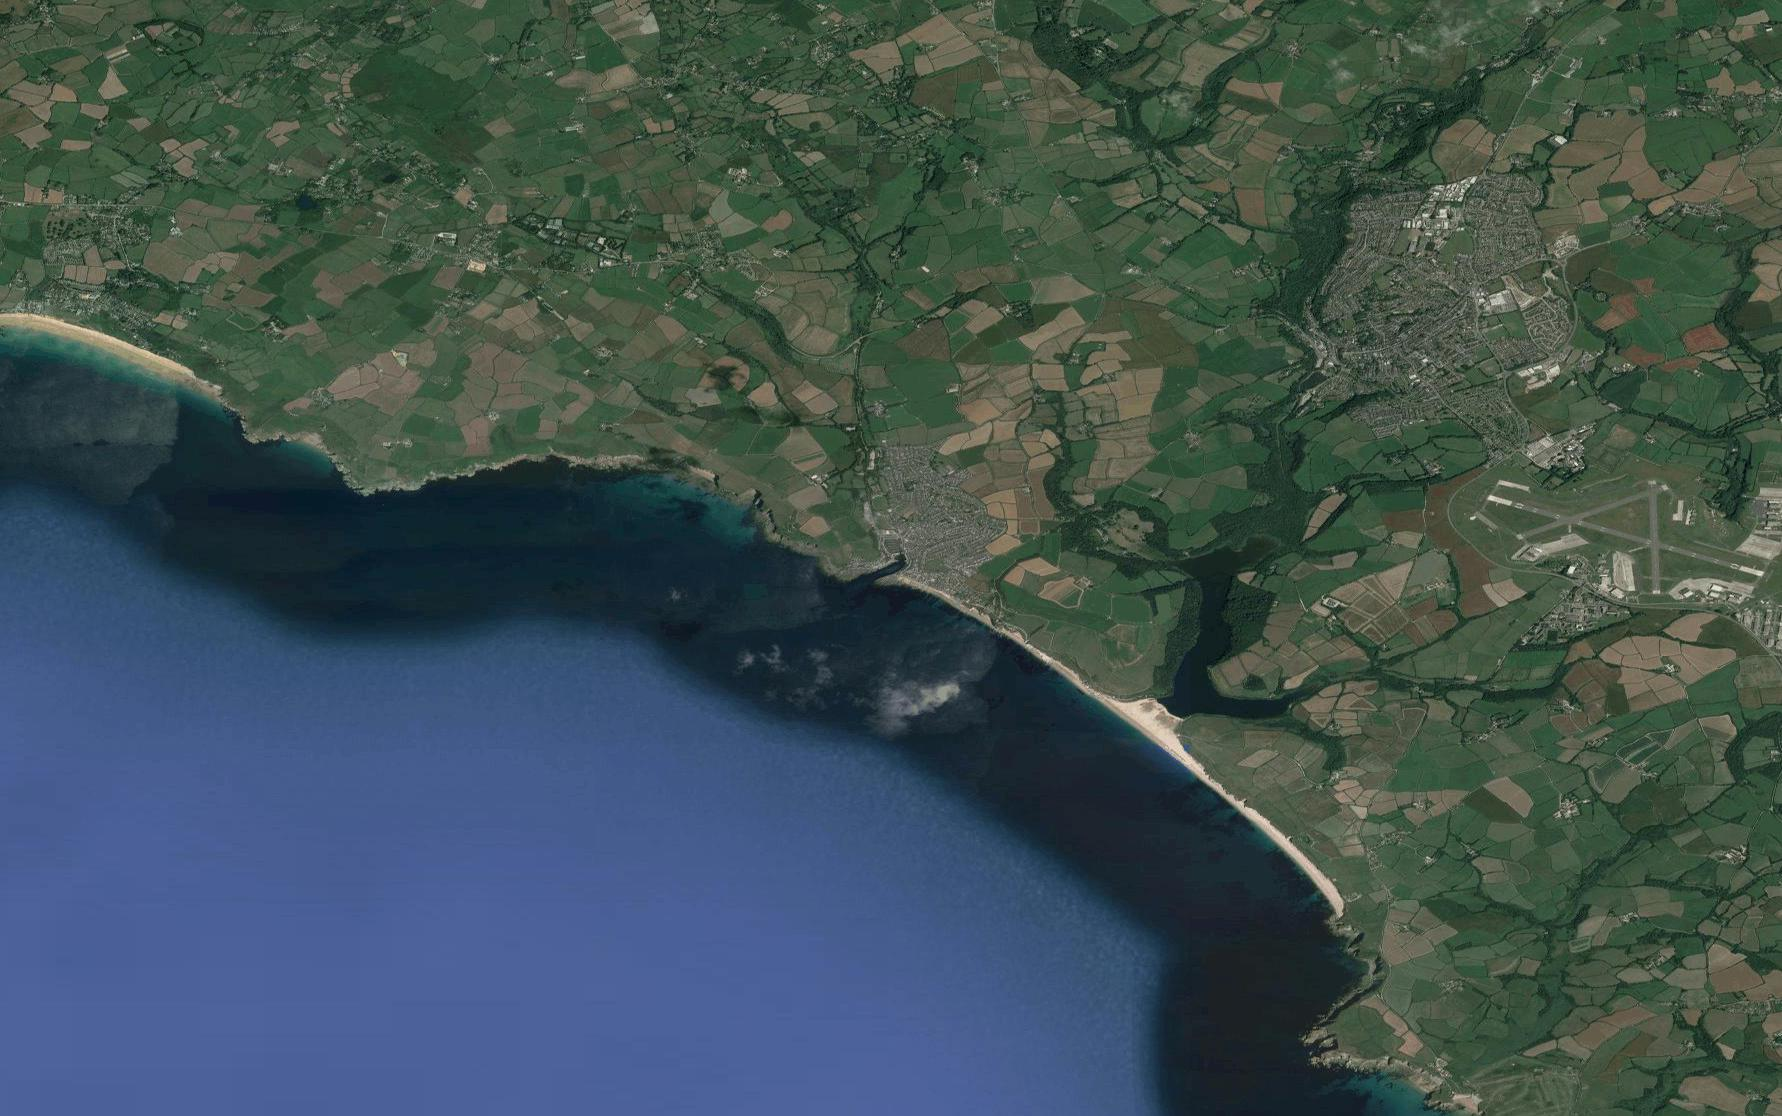harbor: (877, 530, 908, 564)
